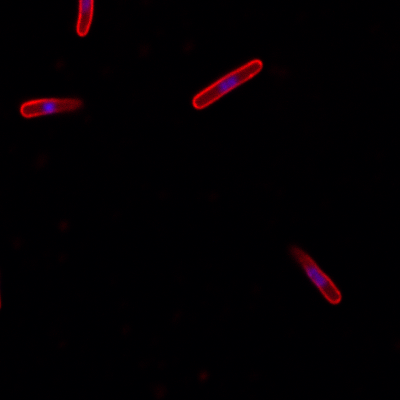Nalidixate: (188, 57, 264, 110)
Oblique: (286, 242, 344, 306), (17, 94, 86, 119)
